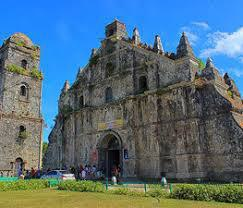paoay_church_paoay_ilocos_norte: (1, 15, 243, 185)
vegetation_damage: (6, 61, 43, 83)
